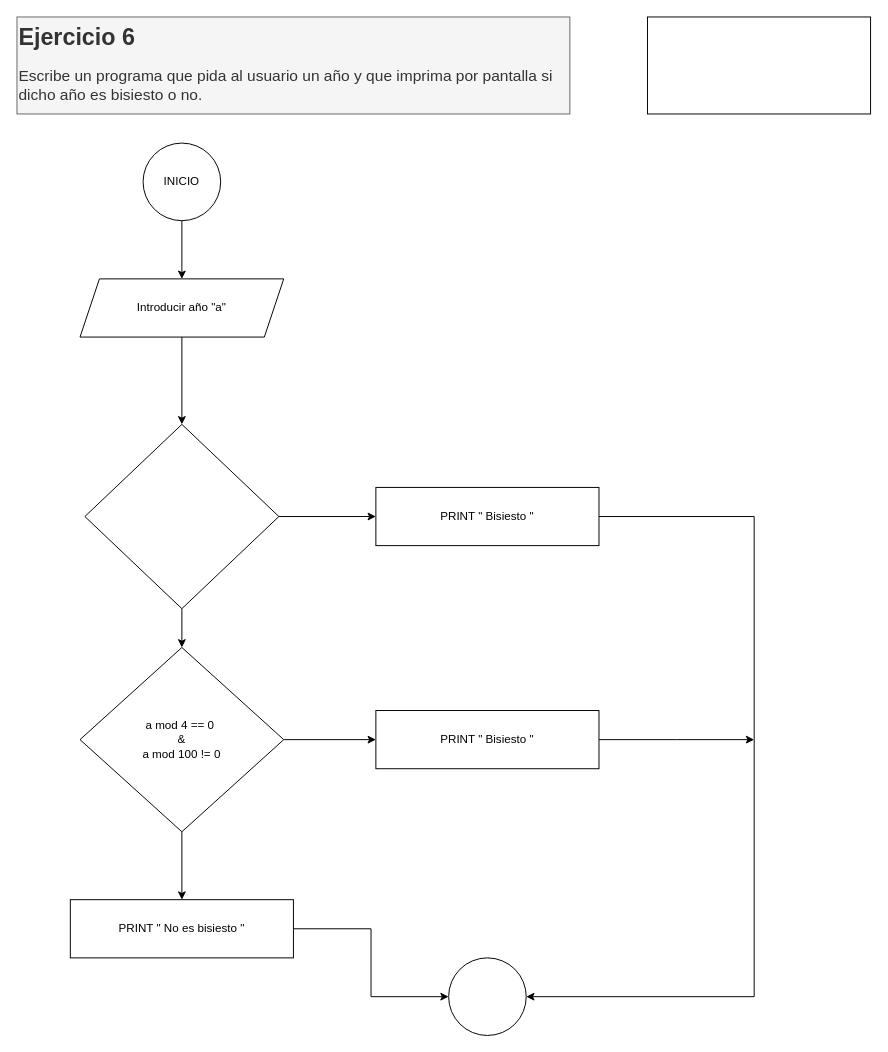
Some shapes in this 888 by 1052 pixel diagram are drawn without their labels. The centre of each missing label's shape, as x and y in pixels:
"a mod 400 == 0 ?" belongs at point (181, 516).
"Ayuda: N mod 400 = = 0 N mod 4 = = 0 & N mod 100 != 0" belongs at point (759, 65).
"FIN" belongs at point (487, 996).
